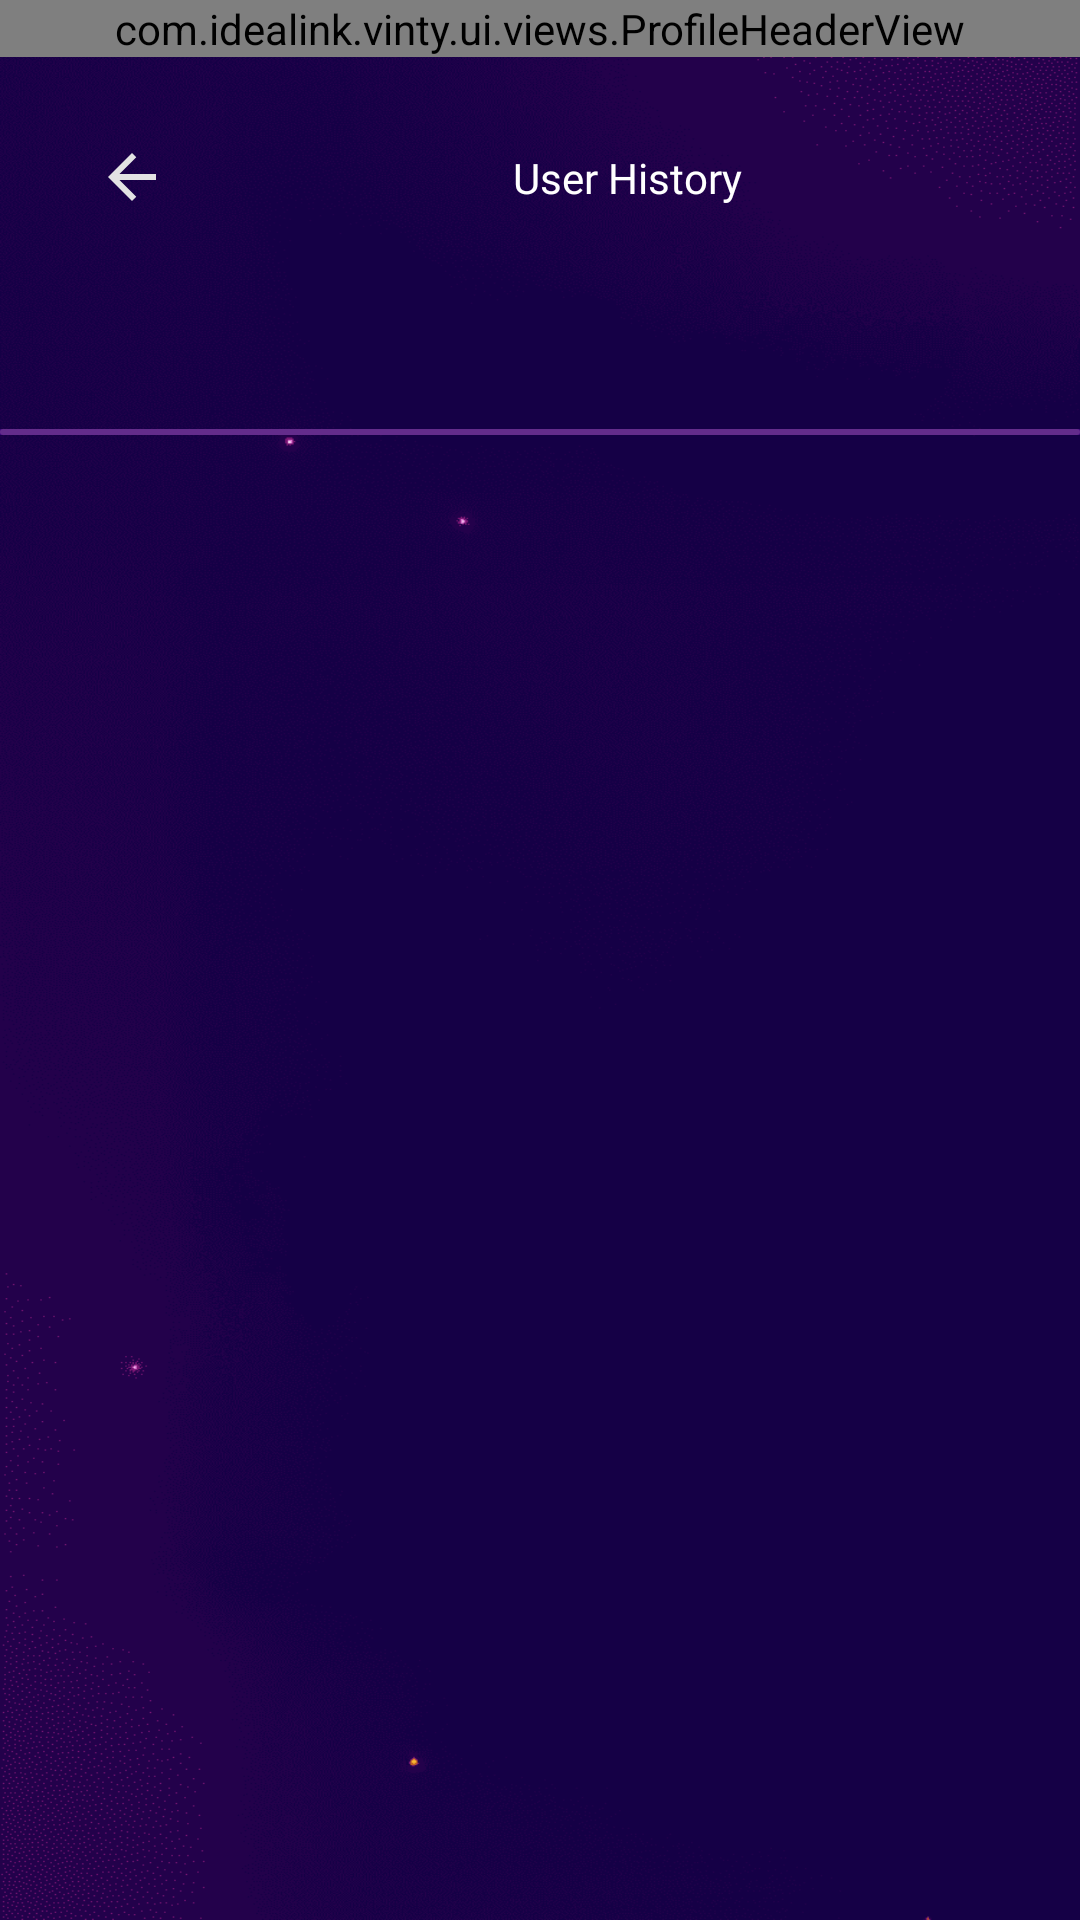

Icons on this 1080px×1920px Android screen, each with the point to tap as point (x, y):
arrow back: point (132, 177)
